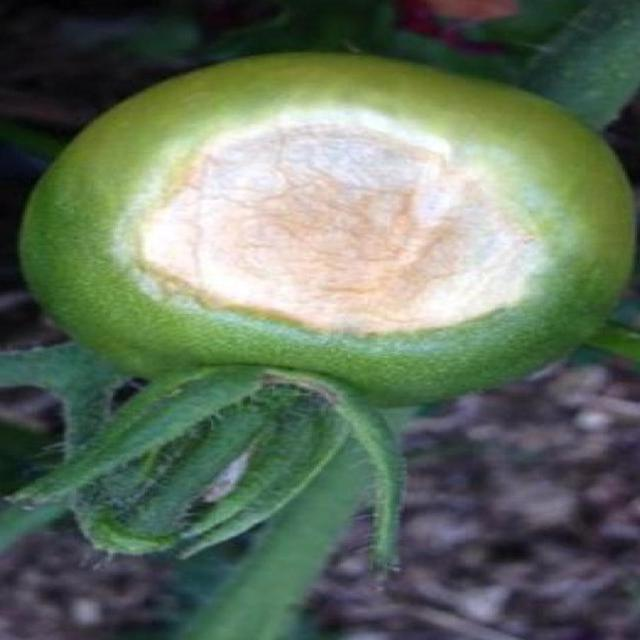Sunscald Fruit: (82, 60, 378, 234)
